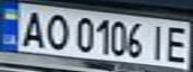0: (109, 18, 130, 57), (72, 15, 93, 53)
1: (90, 16, 112, 55)
6: (127, 19, 148, 60)
A: (15, 7, 48, 48)
E: (160, 22, 193, 64)
I: (145, 21, 172, 62)
O: (39, 11, 72, 51)
